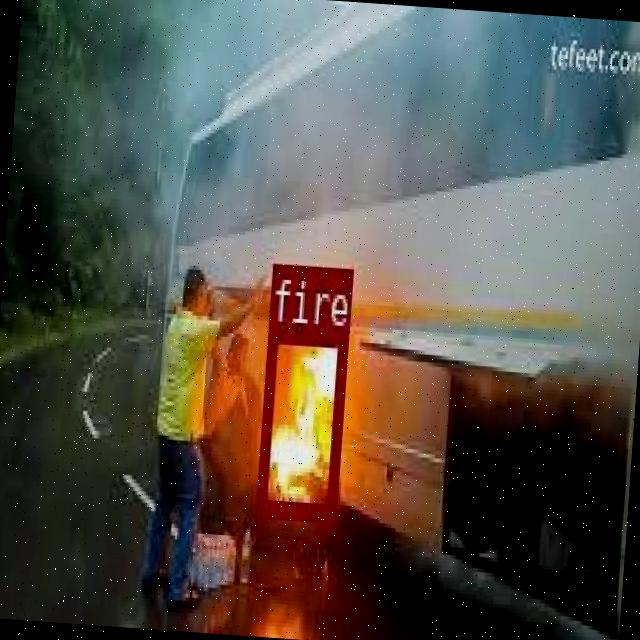fire: (253, 324, 346, 518)
